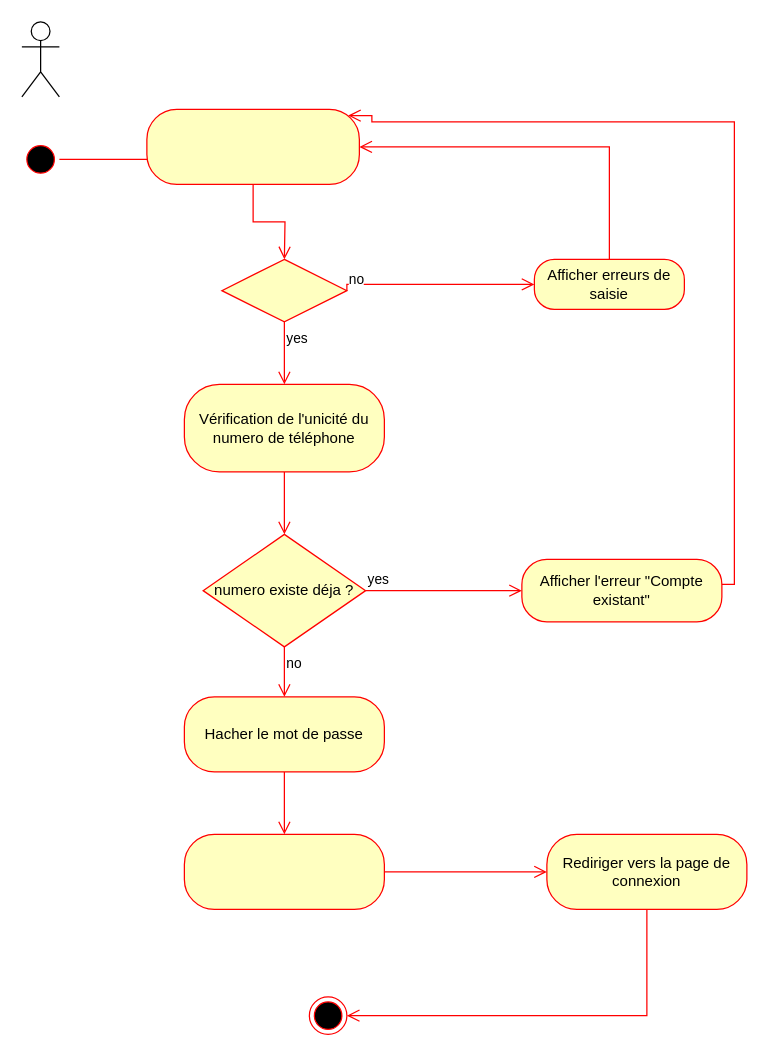
Some shapes in this 769 by 1056 pixel diagram are drawn without their labels. Each missing label, with the centre of its shape:
Crée le compte: the point at 283,871
format valide: the point at 284,290
Remplir le formulaire: the point at 252,146
